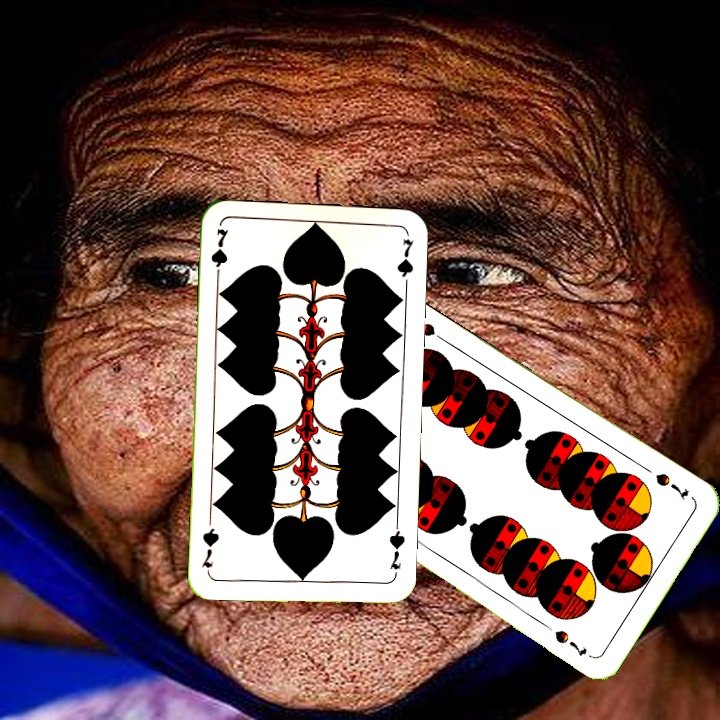G7: (206, 224, 230, 283), (385, 521, 408, 580)
S7: (651, 469, 692, 503)
